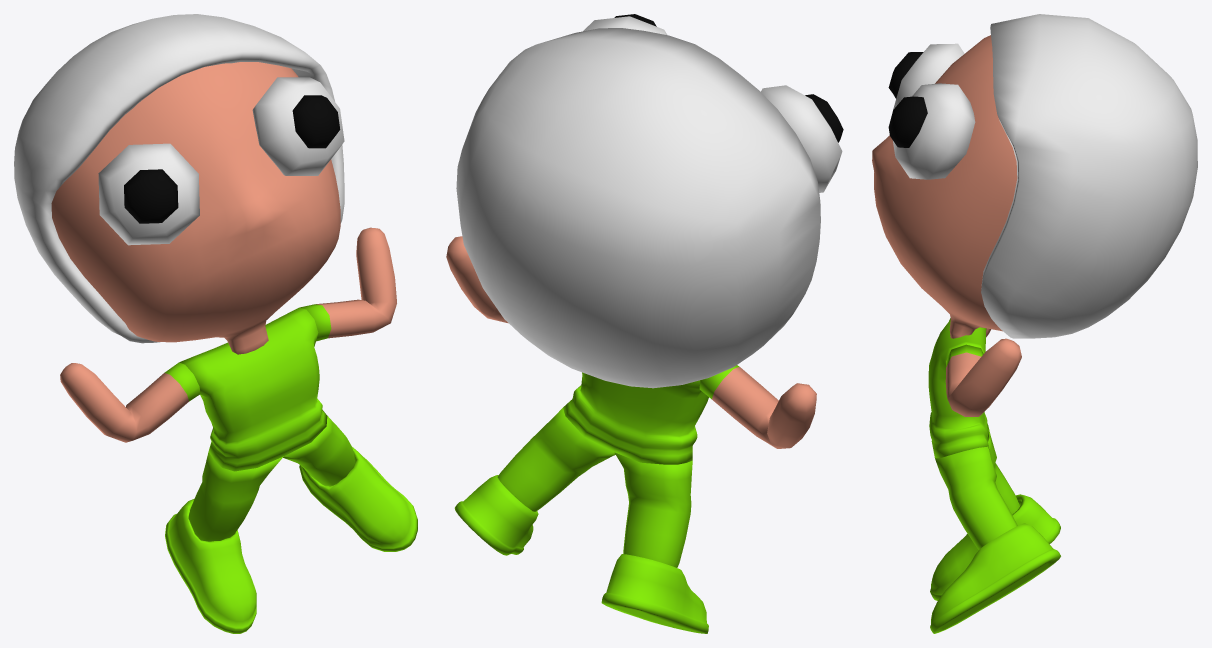
The model's file is NPC_1_parts.fbx.
3 views of the same model, side by side, from view 1: azimuth 30°, elevation 25°; view 2: azimuth 150°, elevation 25°; view 3: azimuth 270°, elevation 25° (orthographic). The views are drawn at different scales.
Parts seen in each view (by area): view 1: Parts.001, Parts, Parts.007, Parts.003, Parts.006, Parts.002, Parts.005, Parts.004; view 2: Parts.001, Parts.007, Parts.006, Parts, Parts.005, Parts.003, Parts.004, Parts.002; view 3: Parts.001, Parts.006, Parts.002, Parts, Parts.004, Parts.007, Parts.003.
Part boxes in pixels (x1,y1,x2,y2): Parts.001: (14, 14, 344, 354); Parts: (179, 307, 327, 471); Parts.007: (165, 452, 283, 633); Parts.003: (98, 143, 199, 245); Parts.006: (283, 416, 417, 551); Parts.002: (252, 77, 344, 175); Parts.005: (60, 362, 200, 442); Parts.004: (300, 227, 396, 341); Parts.001: (456, 28, 820, 388); Parts.007: (601, 452, 708, 633); Parts.006: (454, 408, 615, 555); Parts: (563, 372, 708, 464); Parts.005: (699, 365, 816, 448); Parts.003: (761, 85, 843, 192); Parts.004: (446, 236, 508, 323); Parts.002: (583, 14, 667, 35); Parts.001: (872, 14, 1197, 338); Parts.006: (930, 446, 1060, 633); Parts.002: (888, 83, 975, 179); Parts: (928, 318, 989, 458); Parts.004: (945, 338, 1021, 416); Parts.007: (930, 426, 1060, 600); Parts.003: (888, 43, 964, 109).
Bounding box in the file's own units: 150 × 236 × 123.
